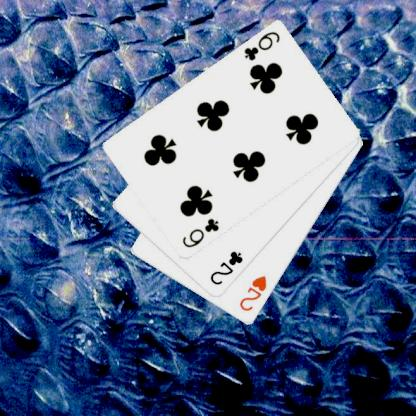2C: (206, 248, 244, 287)
2H: (237, 273, 268, 314)
6C: (179, 216, 221, 249), (241, 29, 281, 62)
